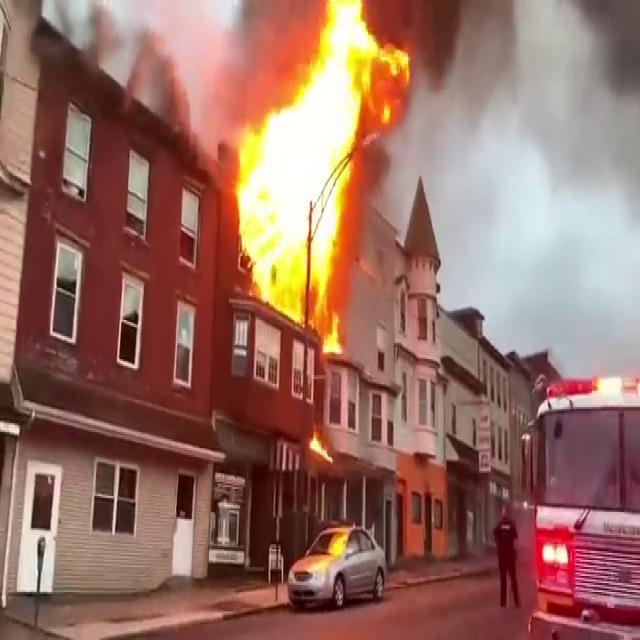Fire: (226, 1, 398, 328)
